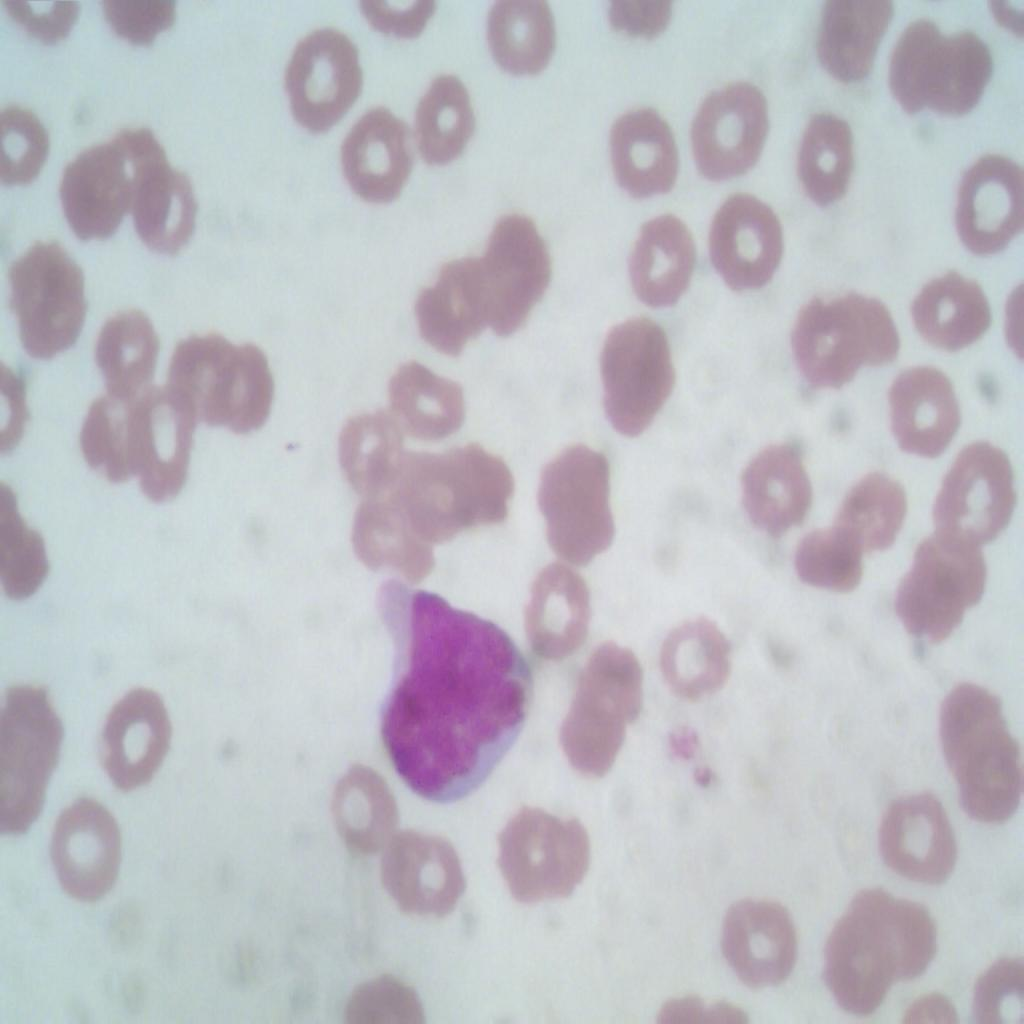Eritrosit: (866, 778, 962, 904), (490, 801, 600, 909), (720, 882, 806, 1011), (90, 684, 186, 798), (0, 239, 86, 365), (890, 538, 986, 650), (594, 318, 683, 438), (698, 181, 784, 304), (684, 76, 778, 186), (918, 669, 1011, 775), (536, 450, 626, 557), (41, 794, 128, 904), (0, 684, 61, 832), (786, 109, 866, 221), (383, 826, 471, 927), (281, 28, 369, 128), (378, 355, 472, 444), (126, 387, 196, 506), (603, 95, 684, 197), (474, 227, 552, 332), (948, 158, 1023, 265), (336, 109, 414, 211), (518, 557, 592, 664), (659, 604, 735, 708), (915, 262, 998, 356), (86, 291, 160, 395), (628, 211, 702, 315), (401, 78, 486, 168), (206, 344, 290, 435), (938, 456, 1023, 545), (821, 906, 891, 1014), (736, 432, 813, 530), (351, 495, 431, 589), (330, 405, 410, 498), (794, 514, 874, 607), (859, 888, 941, 978), (926, 37, 1010, 122), (404, 444, 478, 538), (338, 758, 406, 859), (133, 164, 211, 251), (166, 334, 238, 428), (949, 732, 1023, 823), (834, 468, 911, 555), (78, 376, 138, 486), (786, 287, 854, 384), (878, 23, 955, 108), (824, 294, 906, 368), (581, 627, 638, 729), (423, 255, 482, 351), (446, 440, 516, 520), (562, 690, 622, 782), (66, 148, 128, 235), (814, 0, 879, 82), (491, 0, 556, 79), (102, 127, 166, 205), (889, 375, 956, 447), (0, 109, 46, 192)
Limfoblast: (363, 572, 542, 820)
